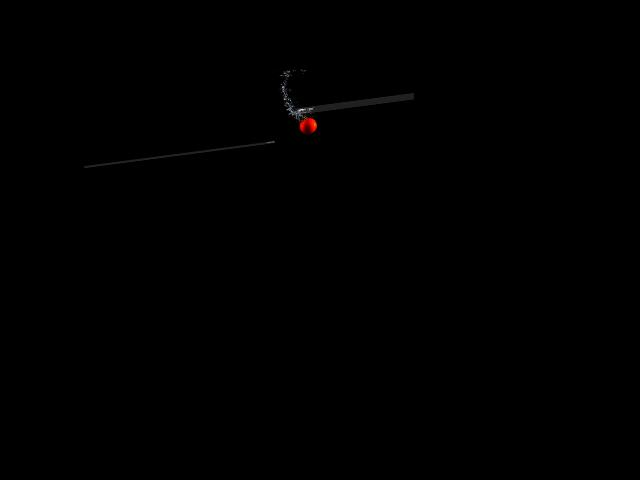tomato: (298, 116, 318, 134)
